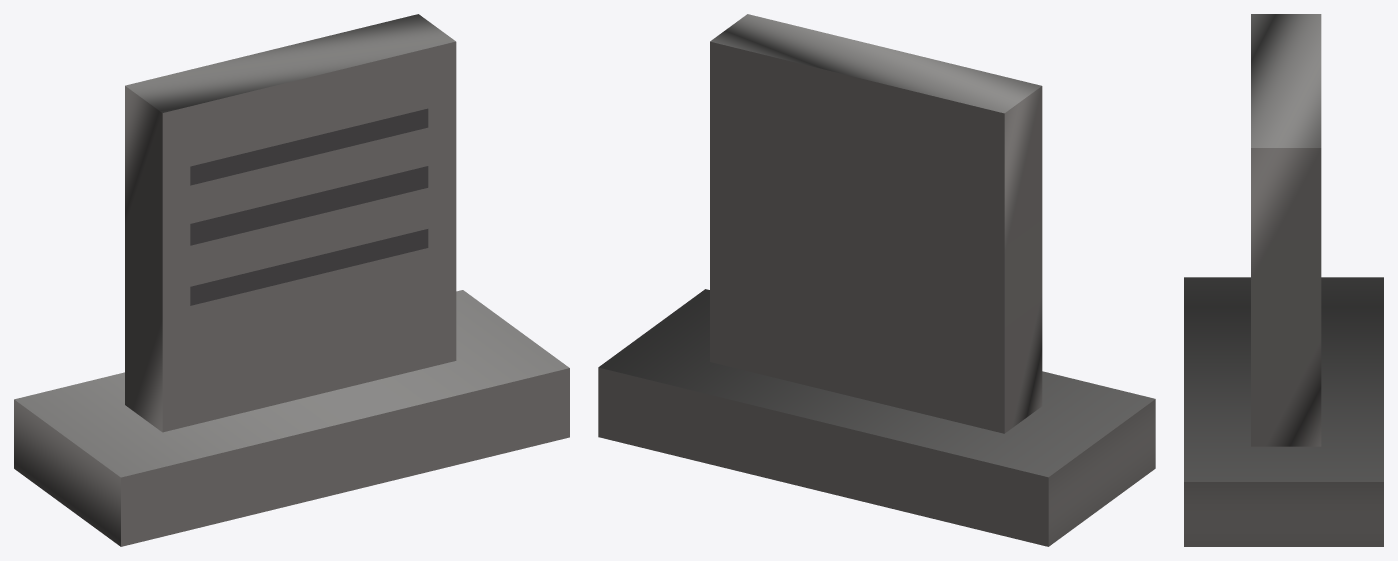
The model's file is apoc_prop_54.glb.
3 views of the same model, side by side, from view 1: azimuth 30°, elevation 25°; view 2: azimuth 150°, elevation 25°; view 3: azimuth 270°, elevation 25° (orthographic). The views are drawn at different scales.
Visible parts, largest first — view 1: prop_056; view 2: prop_056; view 3: prop_056.
Boxes of the visible parts, box(x1,y1,x2,y2) form: prop_056: box(14, 14, 569, 546); prop_056: box(598, 14, 1155, 546); prop_056: box(1184, 14, 1383, 546).
Bounding box in the file's own units: 0.1976 × 0.1635 × 0.0815.
Materials: 1 (1 with a texture image).
